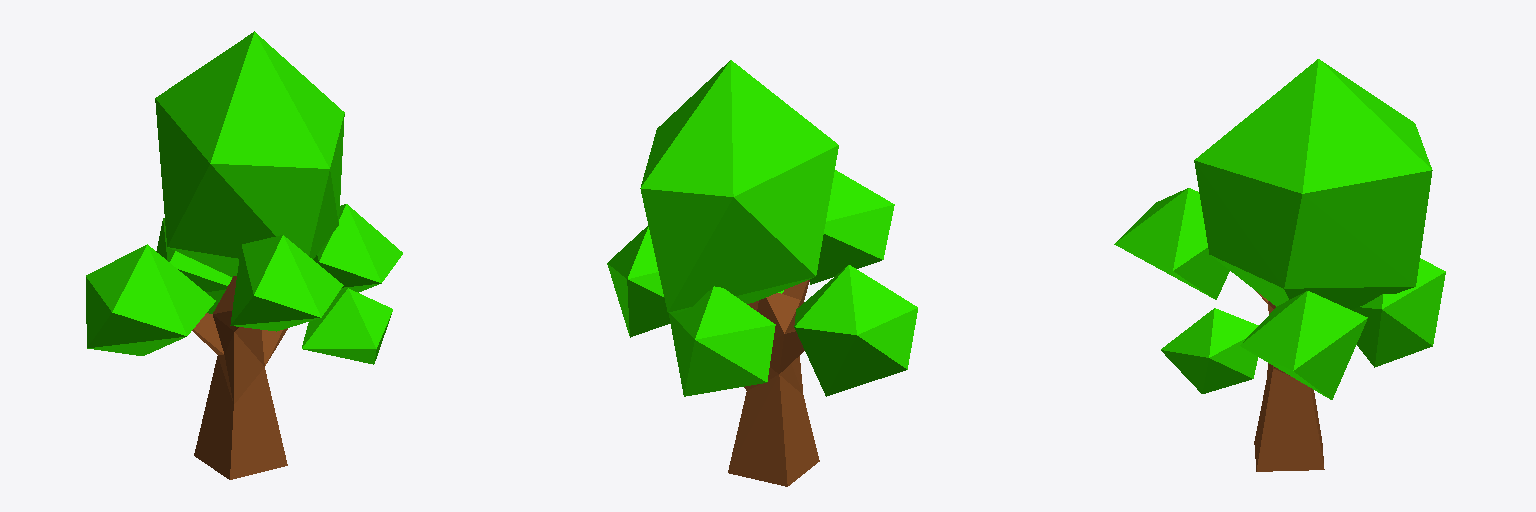
3 views of the same model, side by side, from view 1: azimuth 30°, elevation 25°; view 2: azimuth 150°, elevation 25°; view 3: azimuth 270°, elevation 25° (orthographic).
Visible parts, largest first — view 1: ICO球.004; view 2: ICO球.004; view 3: ICO球.004.
Part boxes in pixels (x1,y1,x2,y2): ICO球.004: (86,31,402,479); ICO球.004: (607,60,917,486); ICO球.004: (1114,59,1445,471).
Size of the model in its own units: 18.31 by 23.36 by 17.06.
1 materials, 1 textured.